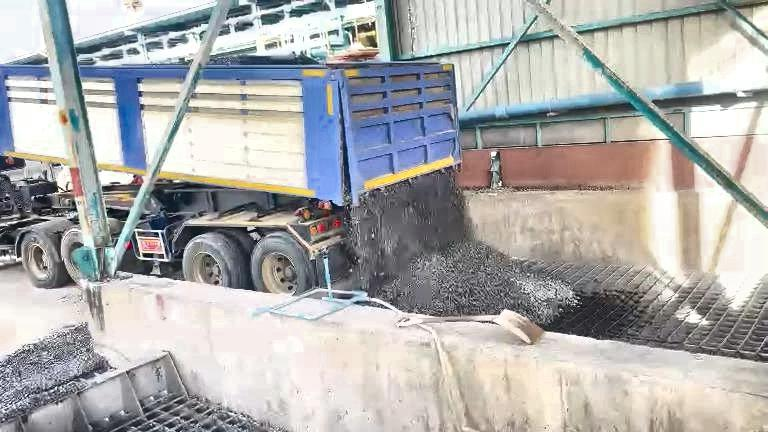gravel: (351, 171, 574, 323), (1, 323, 109, 421), (211, 53, 321, 63)
